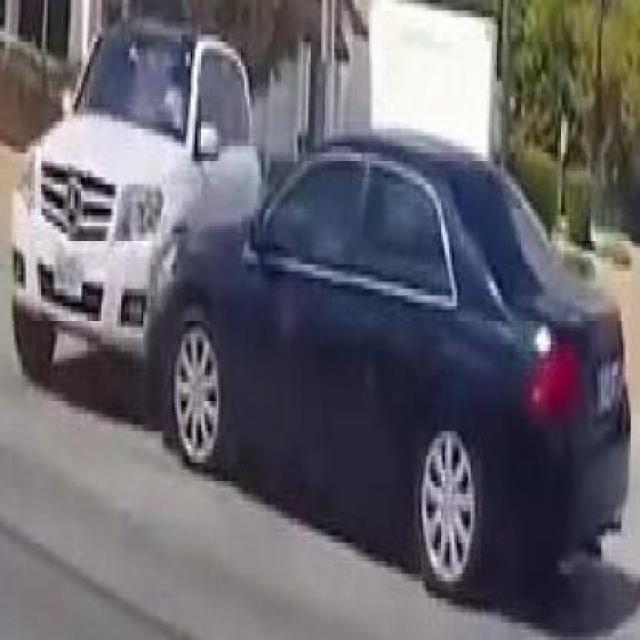accident: (0, 57, 621, 520)
